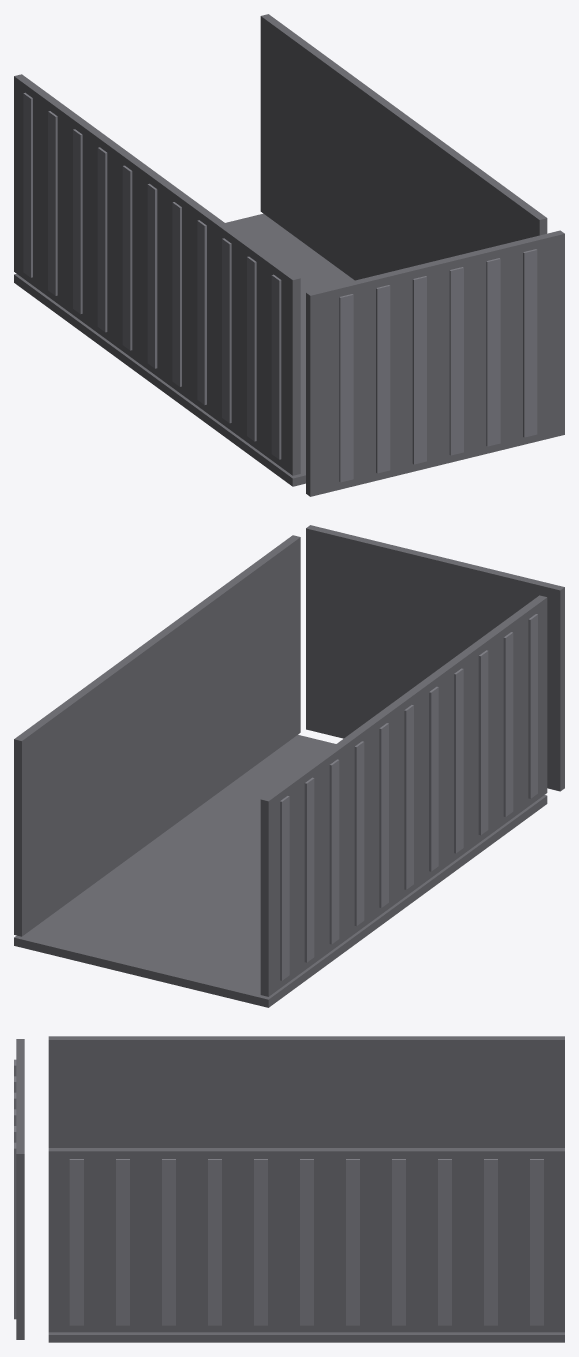
File: cabinet_muffle.obj
3 views of the same model, one above another, from view 1: azimuth 30°, elevation 25°; view 2: azimuth 150°, elevation 25°; view 3: azimuth 270°, elevation 25° (orthographic). The views are drawn at different scales.
Size of the model in its own units: 0.986 by 0.76 by 1.96.
1 material, 1 textured.
